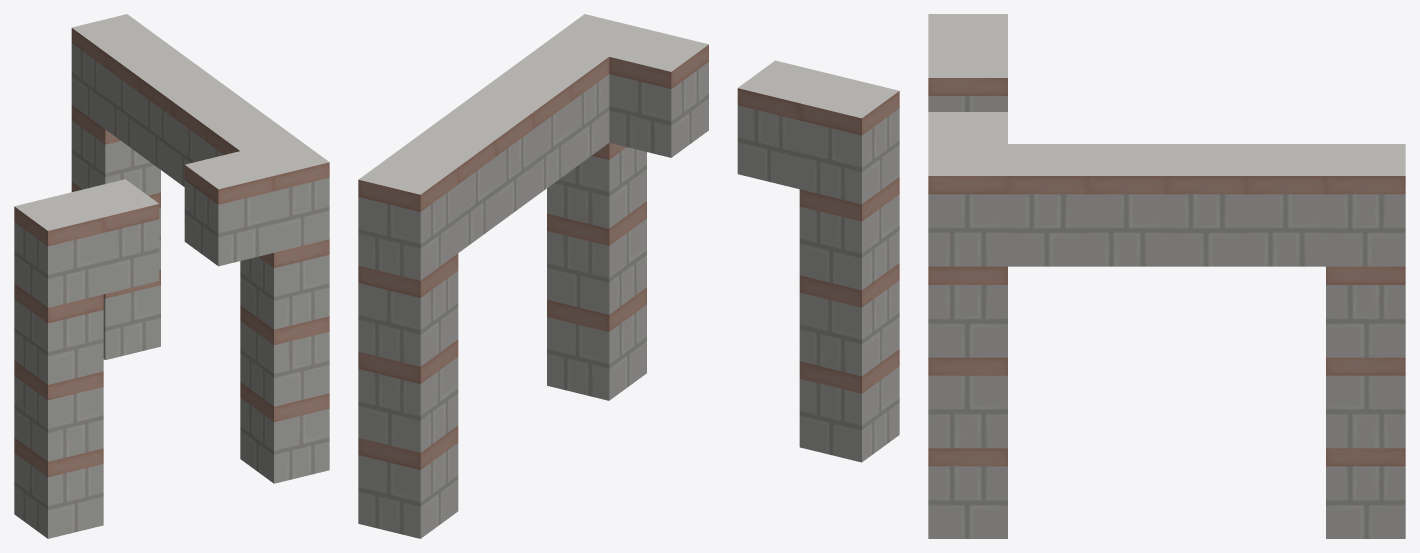
3 views of the same model, side by side, from view 1: azimuth 30°, elevation 25°; view 2: azimuth 150°, elevation 25°; view 3: azimuth 270°, elevation 25° (orthographic). The views are drawn at different scales.
Visible parts, largest first — view 1: centralgate_03; view 2: centralgate_03; view 3: centralgate_03.
Part boxes in pixels (x1=…): centralgate_03: x1=14, y1=14, x2=329, y2=538; centralgate_03: x1=358, y1=14, x2=899, y2=538; centralgate_03: x1=928, y1=14, x2=1405, y2=538.
Size of the model in its own units: 0.5787 by 0.6044 by 0.7205.
Materials: 1 (1 with a texture image).
